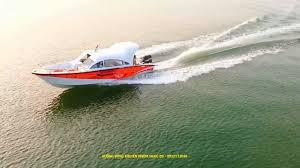Ship: (33, 43, 158, 87)
